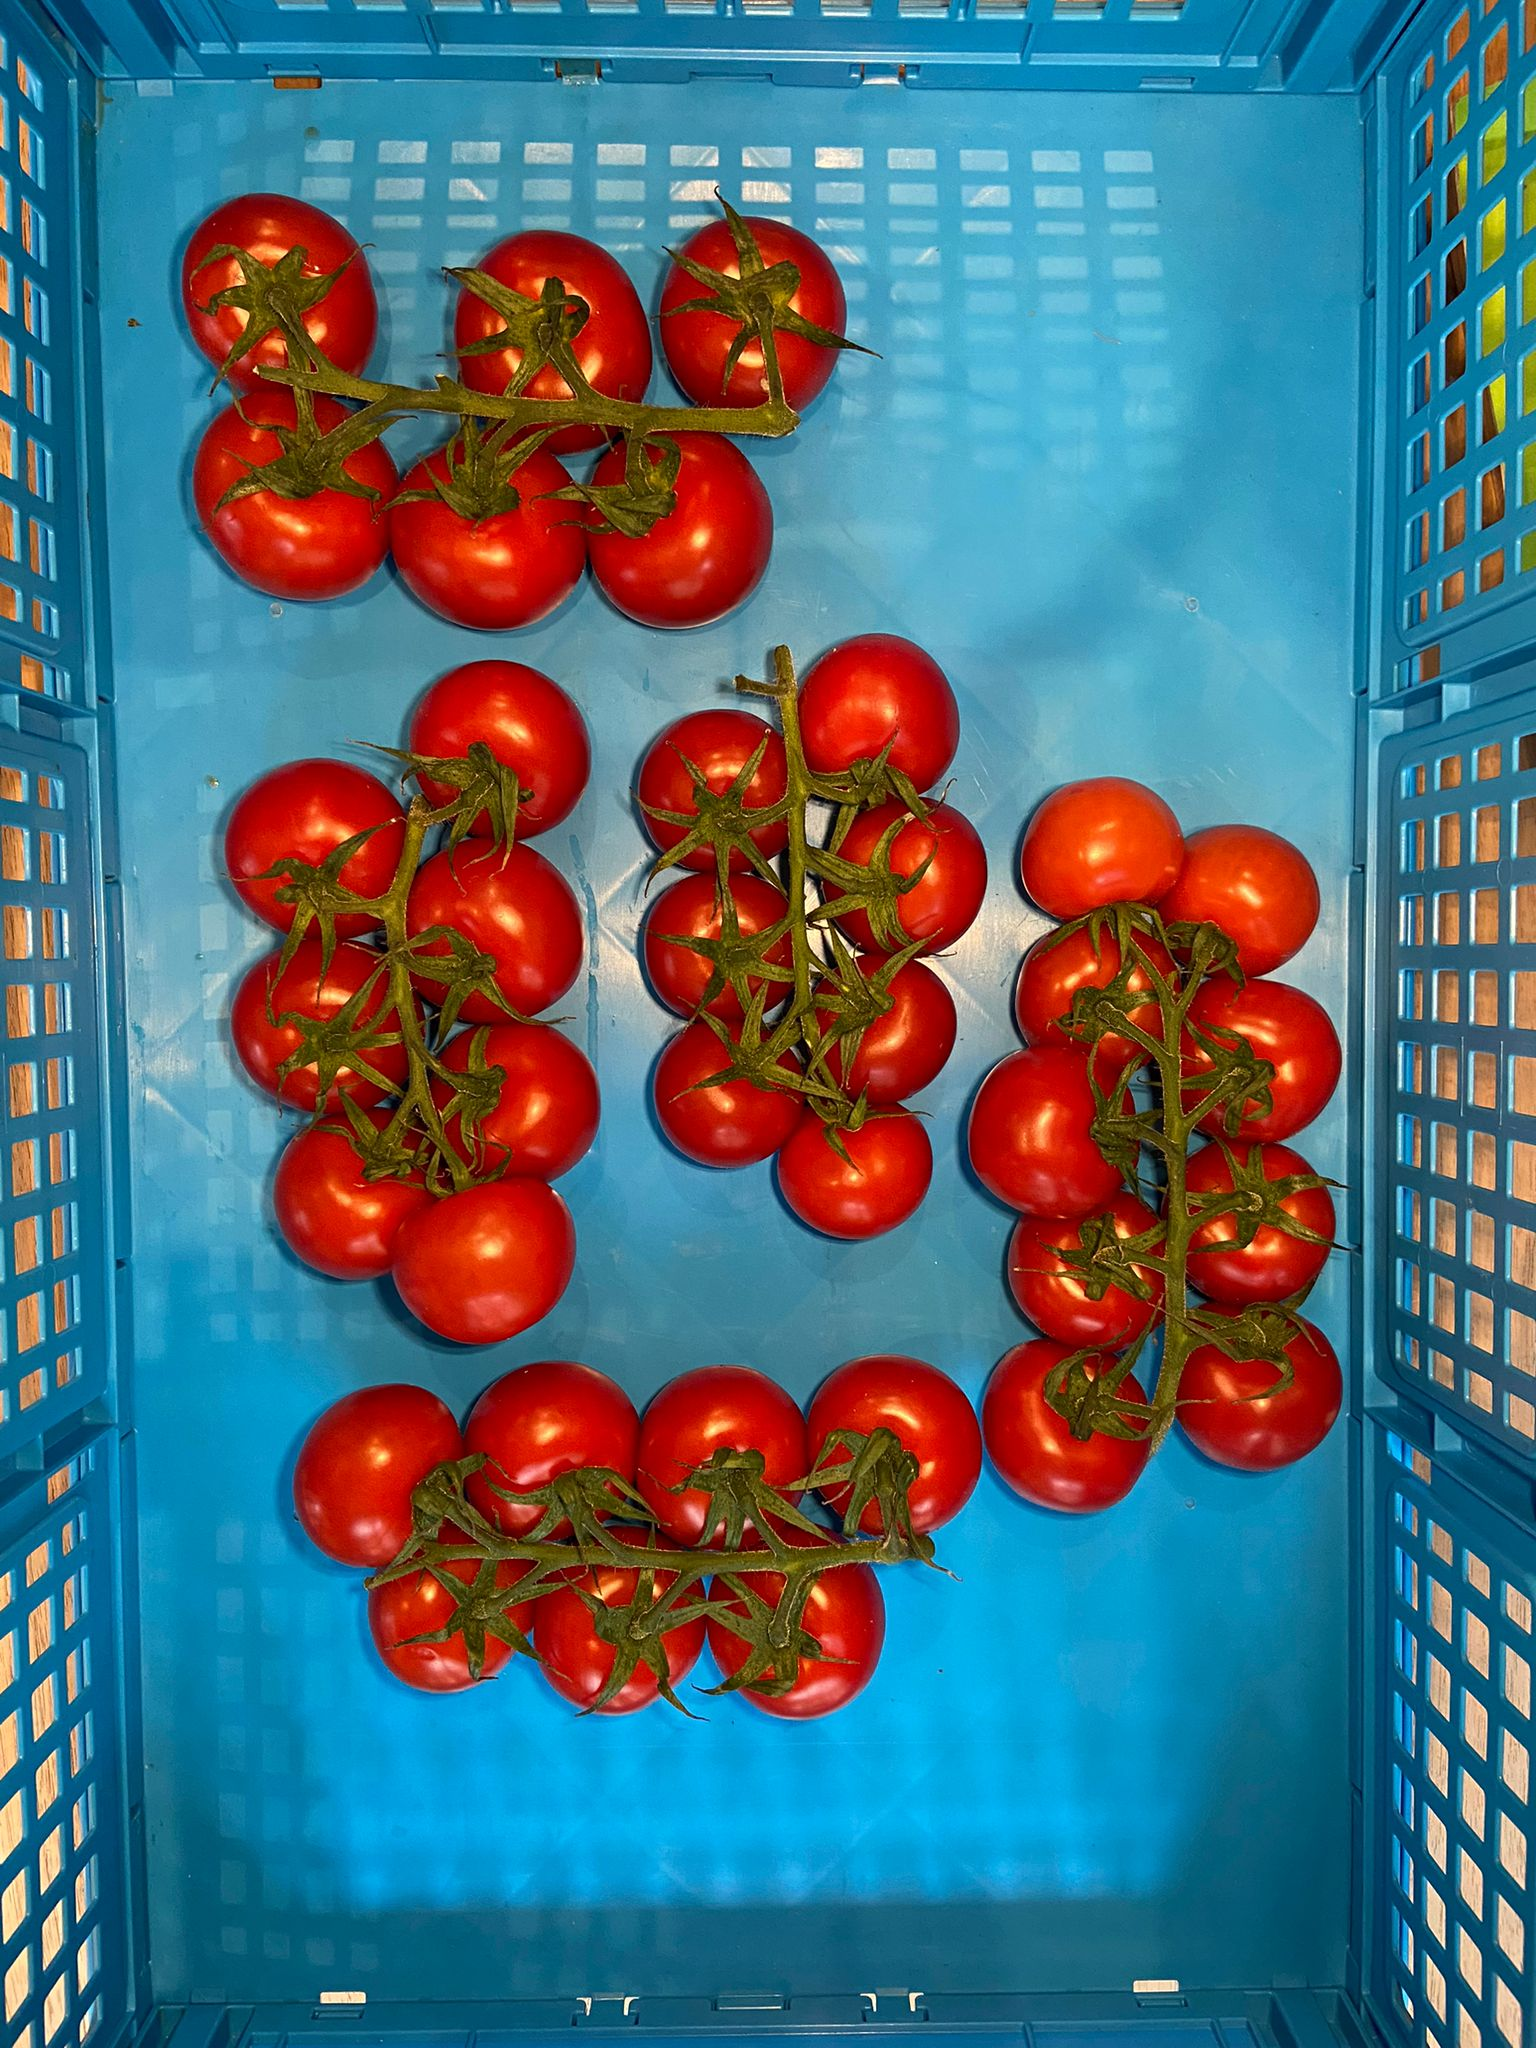tomaat: (160, 182, 870, 639), (962, 760, 1350, 1521), (271, 1343, 991, 1742), (207, 651, 608, 1356), (616, 614, 995, 1255)
